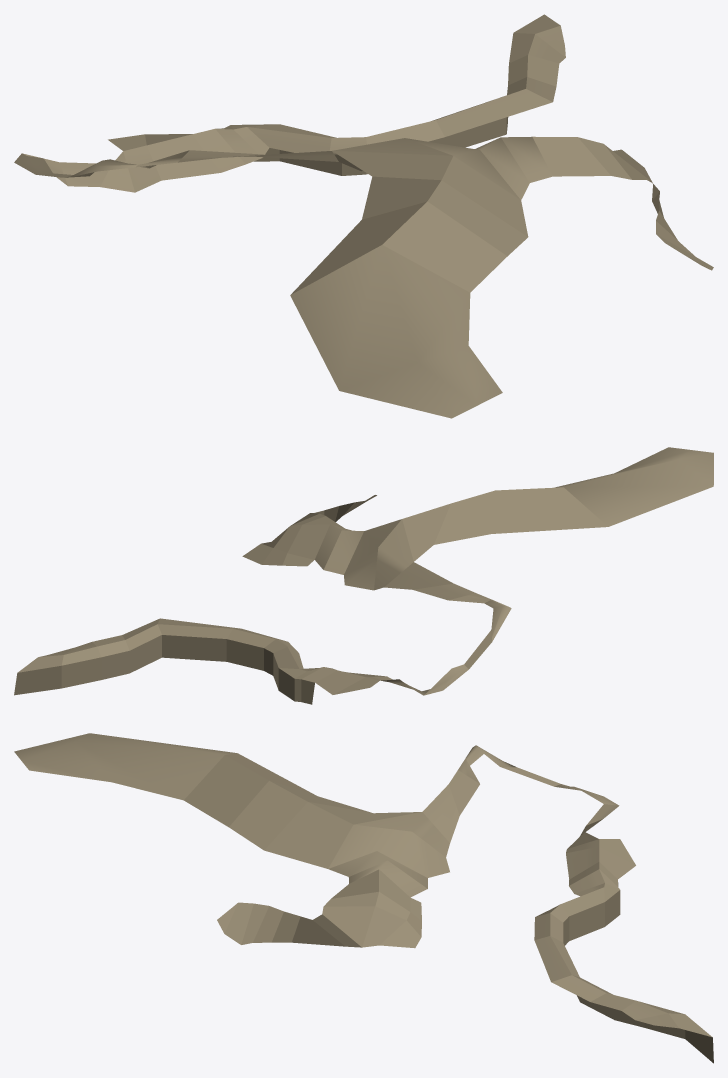
Rendered from terrain_Mountain_east.fbx.
3 views of the same model, one above another, from view 1: azimuth 30°, elevation 25°; view 2: azimuth 150°, elevation 25°; view 3: azimuth 270°, elevation 25° (orthographic). The views are drawn at different scales.
Parts seen in each view (by area): view 1: moutainsEast; view 2: moutainsEast; view 3: moutainsEast.
Boxes of the visible parts, x1=… form: moutainsEast: x1=14, y1=14, x2=713, y2=418; moutainsEast: x1=14, y1=447, x2=713, y2=704; moutainsEast: x1=14, y1=733, x2=713, y2=1063.
Bounding box in the file's own units: 64266 × 18336 × 86122.
